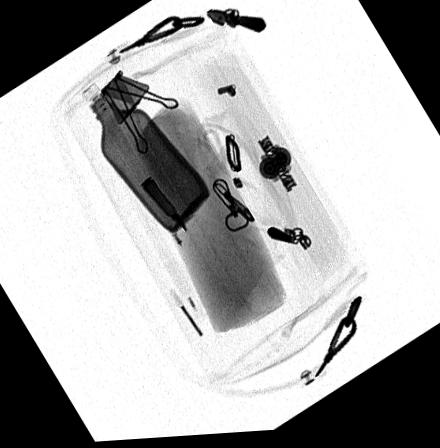Bullet: (139, 177, 188, 235)
